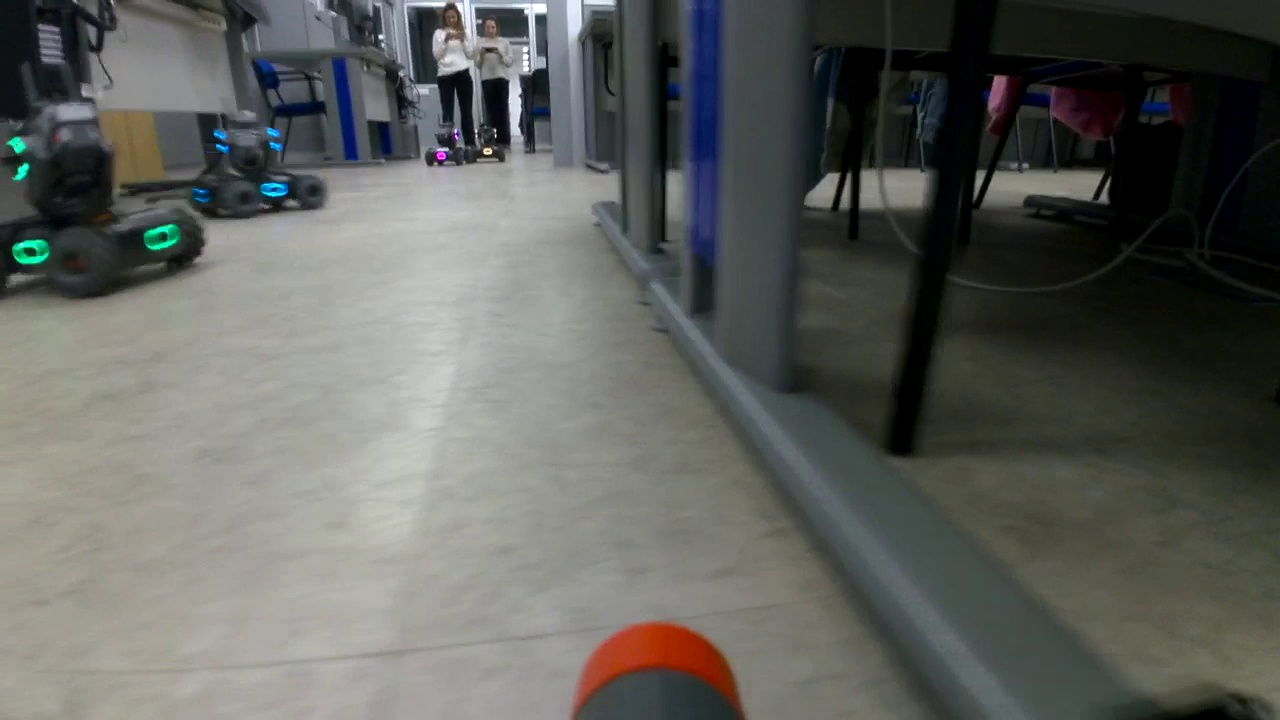robot: (1, 101, 205, 299), (188, 113, 330, 220), (422, 123, 466, 170), (466, 123, 507, 167)
